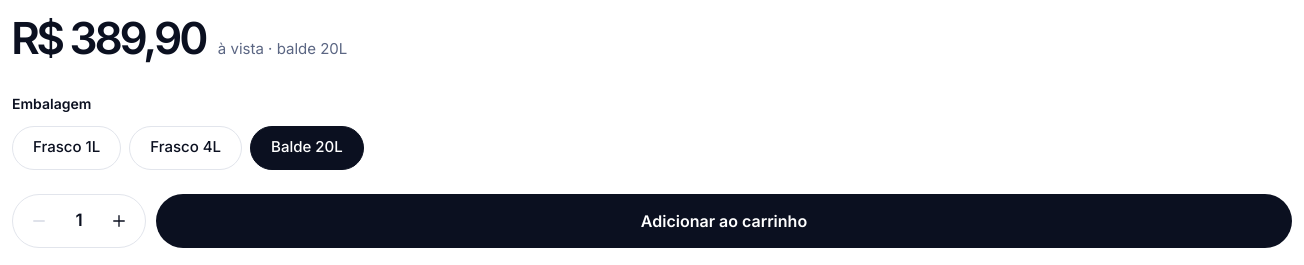
embalagem, preço e quantidade › PDP-01.4: escolher a embalagem troca o preço e a legenda
What coordinates should you click on to do the following:
click the button "Frasco 1L"
I would click on:
 (67, 148)
Its box is [12,126,121,170].
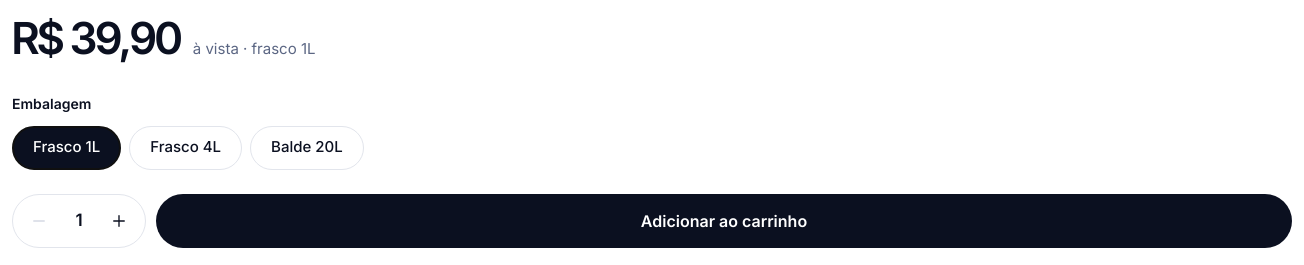
Check: the text "R$ 39,90" is shown, box [12,16,181,60]
Check: the text "à vista · frasco 1L" is shown, box [193,38,316,60]
Check: the text "R$ 389,90" is gone
What coordinates should you click on to do the following:
click the button "Frasco 4L"
I would click on:
 (186, 148)
Its box is [129,126,242,170].
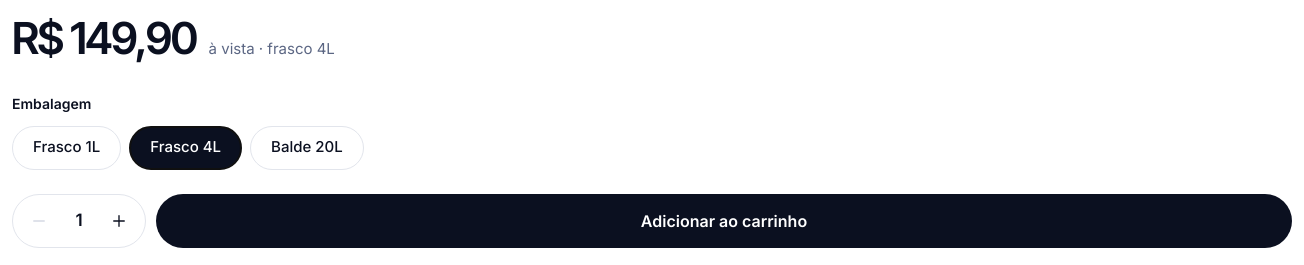
Check: the text "R$ 149,90" is shown, box [12,16,197,60]
Check: the text "à vista · frasco 4L" is shown, box [209,38,335,60]
